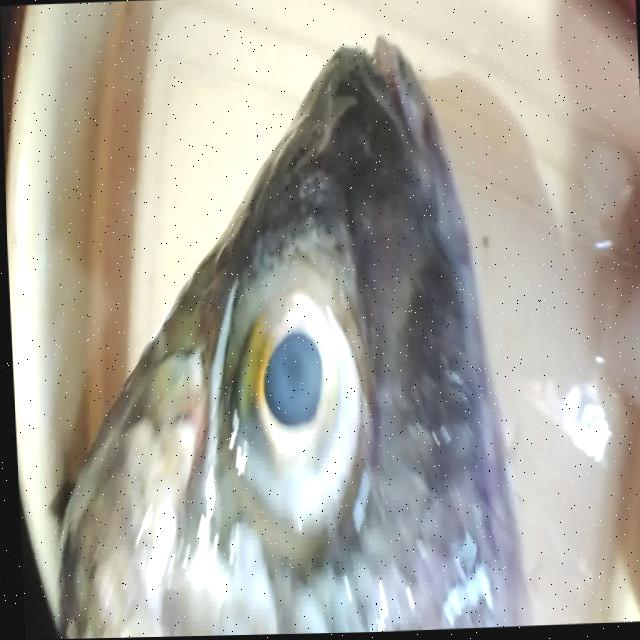Fresh: (187, 246, 383, 544)
